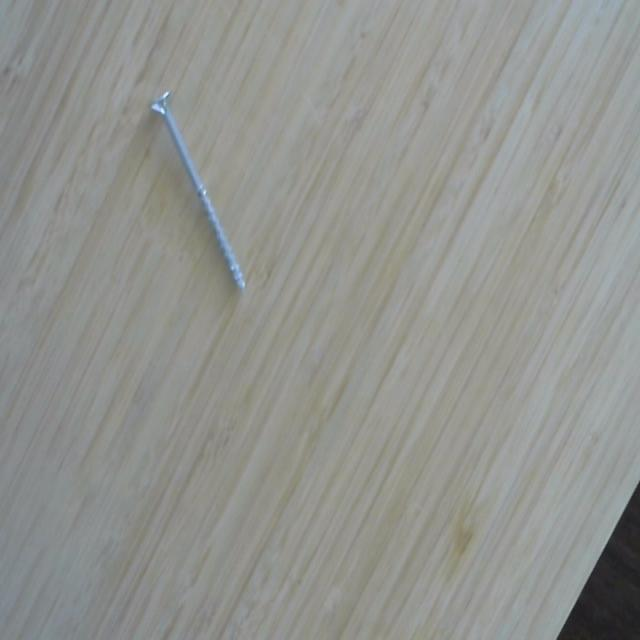Long screw: (146, 87, 253, 297)
